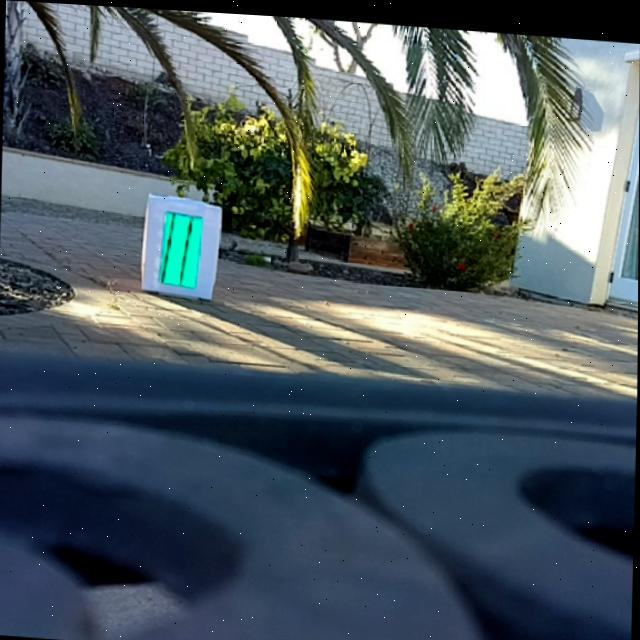led: (163, 208, 202, 286)
